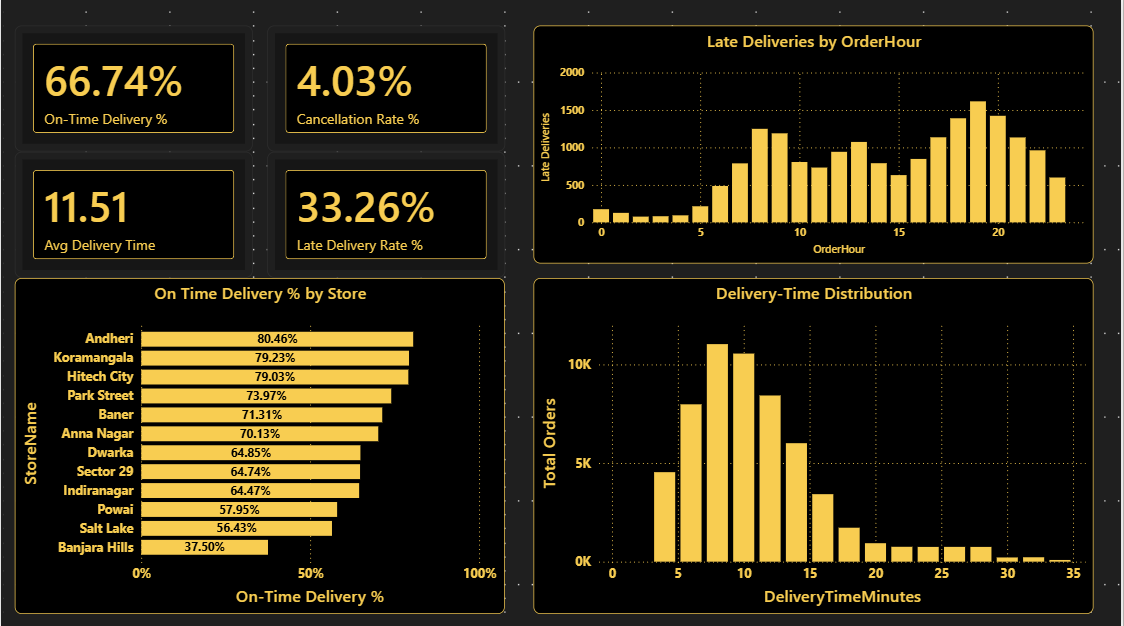

The page's visual inventory and layout, read from the dashboard file:
{"tool":"powerbi","page":{"name":"Delivery Performance","canvas":[1280,720],"ordinal":1},"visuals":[{"type":"cardVisual","fields":{"Data":["_Measures.On-Time Delivery %"]},"box":[16,32,272,144],"z":0},{"type":"cardVisual","fields":{"Data":["_Measures.Avg Delivery Time"]},"box":[16,176,272,144],"z":1000},{"type":"cardVisual","fields":{"Data":["_Measures.Late Delivery Rate %"]},"box":[304,176,272,144],"z":2000},{"type":"cardVisual","fields":{"Data":["_Measures.Cancellation Rate %"]},"box":[304,32,272,144],"z":3000},{"type":"barChart","title":"On Time Delivery % by Store","fields":{"Category":["Stores_Dim.StoreName"],"Y":["_Measures.On-Time Delivery %"]},"box":[16,320,560,384],"z":4000},{"type":"columnChart","title":"Delivery-Time Distribution","fields":{"Y":["_Measures.Total Orders"],"Category":["Sales_Fact.DeliveryTimeMinutes (bins)"]},"box":[608,320,640,384],"z":5000},{"type":"columnChart","fields":{"Category":["Sales_Fact.OrderHour"],"Y":["_Measures.Late Deliveries"]},"box":[608,32,640,272],"z":6000}]}

Visuals, with their boxes in screenshot pixels (x1, y1, x2, y2), scaled from the page's 1280x720 canvas onto the 1124x626 screenshot:
cardVisual - _Measures.On-Time Delivery %: [14,28,253,153]
cardVisual - _Measures.Avg Delivery Time: [14,153,253,278]
cardVisual - _Measures.Late Delivery Rate %: [267,153,506,278]
cardVisual - _Measures.Cancellation Rate %: [267,28,506,153]
"On Time Delivery % by Store" barChart: [14,278,506,612]
"Delivery-Time Distribution" columnChart: [534,278,1096,612]
columnChart - Sales_Fact.OrderHour x _Measures.Late Deliveries: [534,28,1096,264]
